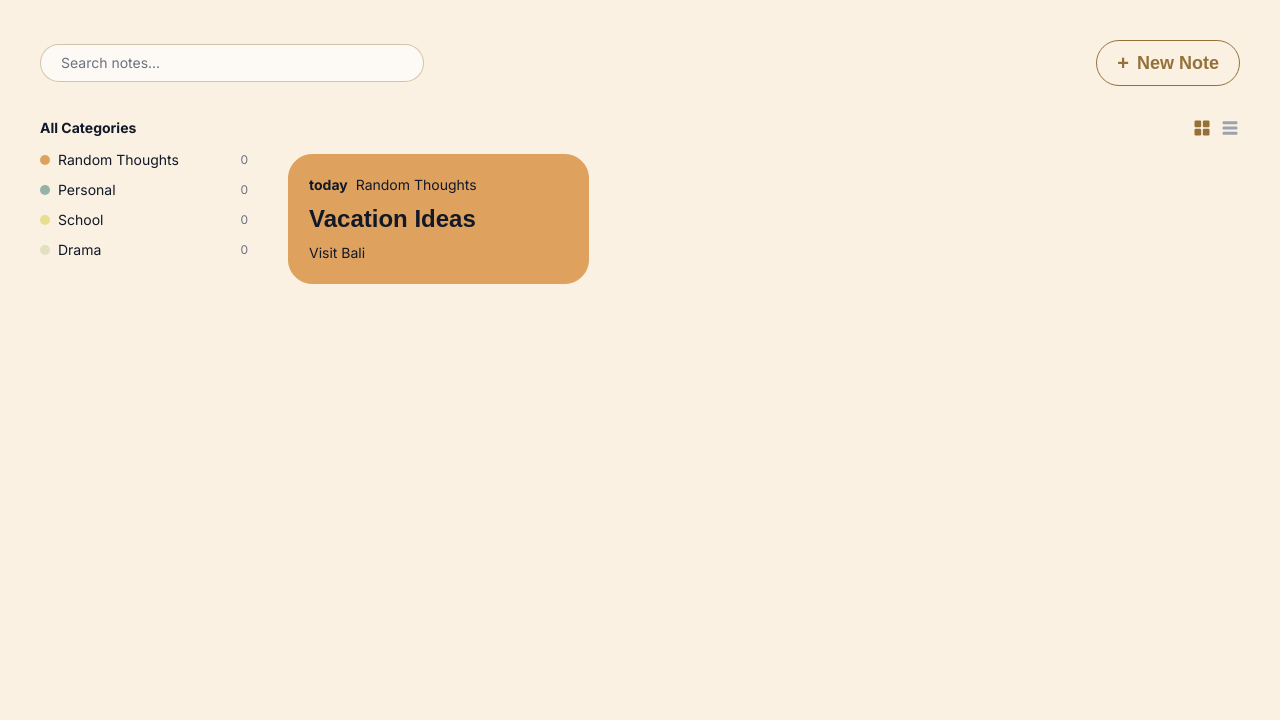
Test: NotesDashboard › opens an existing note pre-filled when its card is clicked
Click the button with test id "note-card". click: (439, 219)
box: [288,154,589,284]
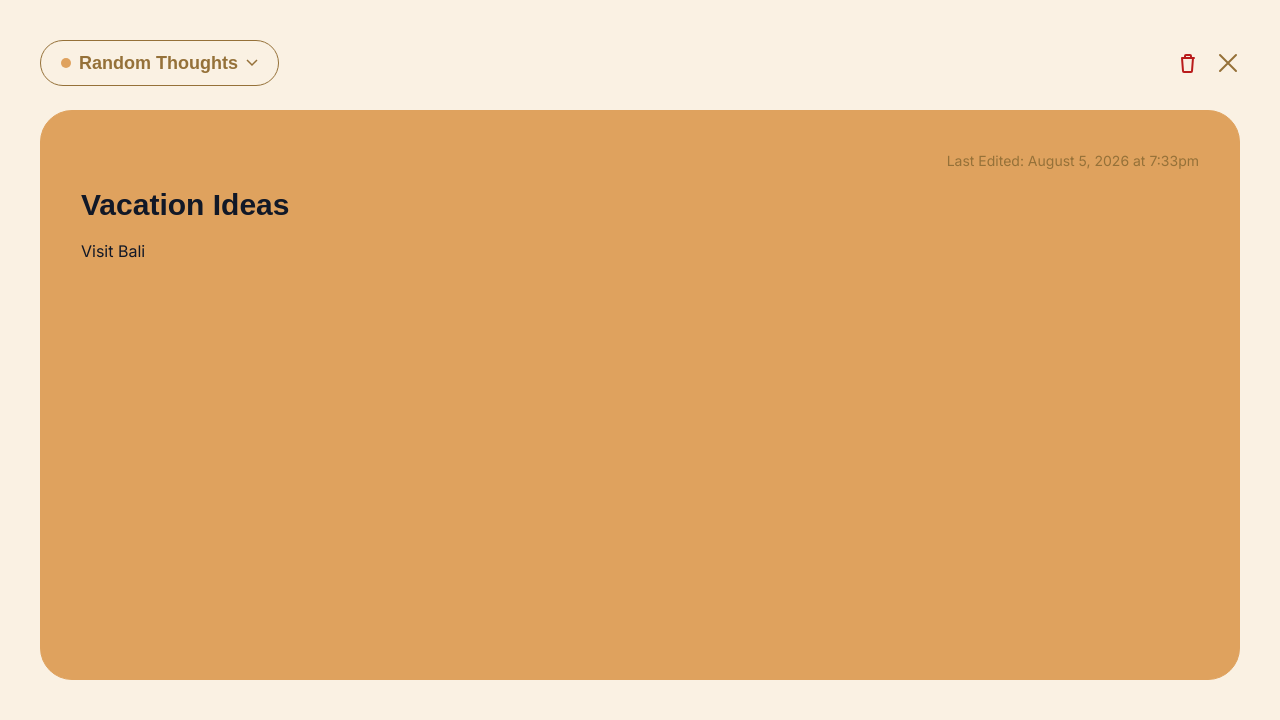
Result: the field with test id "note-title-input" holds "Vacation Ideas" at [81,187,1199,223]
Result: the text box with test id "note-body-textarea" holds "Visit Bali" at [81,239,1199,639]
